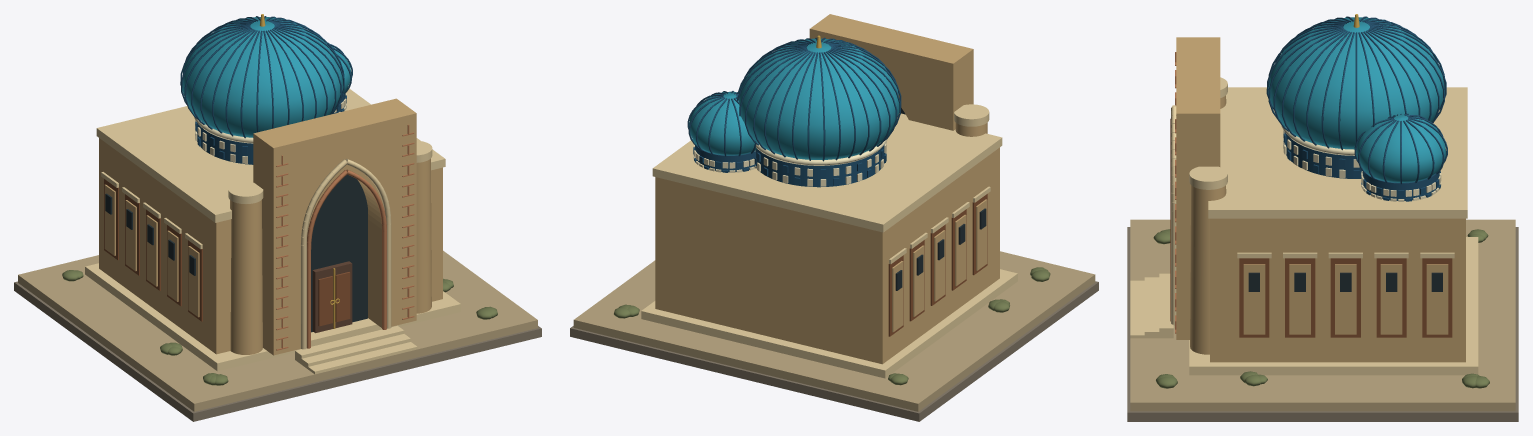
The model's file is yasawi.glb.
The picture shows the model from 3 angles, left to right: view 1: azimuth 30°, elevation 25°; view 2: azimuth 150°, elevation 25°; view 3: azimuth 270°, elevation 25°; orthographic projection. The views are drawn at different scales.
Parts seen in each view (by area): view 1: Warm limestone, Carved pale limestone, Steppe earth, Turquoise glazed ceramic, Cobalt mosaic, Doorway shadows, Foundation edging, Terracotta recess, Terracotta, Cedar doors, Sparse steppe vegetation, Ivory mosaic; view 2: Warm limestone, Carved pale limestone, Steppe earth, Turquoise glazed ceramic, Cobalt mosaic, Foundation edging, Terracotta recess, Ivory mosaic, Sparse steppe vegetation, Doorway shadows; view 3: Warm limestone, Carved pale limestone, Steppe earth, Turquoise glazed ceramic, Cobalt mosaic, Foundation edging, Terracotta recess, Ivory mosaic, Sparse steppe vegetation, Doorway shadows, Terracotta.
Part boxes in pixels (bbox=[...]): Warm limestone: bbox=[99, 98, 442, 355]; Carved pale limestone: bbox=[85, 88, 460, 374]; Steppe earth: bbox=[18, 250, 537, 411]; Turquoise glazed ceramic: bbox=[182, 17, 351, 137]; Cobalt mosaic: bbox=[180, 16, 352, 164]; Doorway shadows: bbox=[105, 174, 367, 332]; Foundation edging: bbox=[14, 281, 541, 421]; Terracotta recess: bbox=[104, 179, 350, 326]; Terracotta: bbox=[276, 124, 414, 350]; Cedar doors: bbox=[312, 261, 352, 333]; Sparse steppe vegetation: bbox=[62, 270, 497, 385]; Ivory mosaic: bbox=[194, 93, 346, 163]; Warm limestone: bbox=[655, 14, 999, 364]; Carved pale limestone: bbox=[641, 104, 1017, 378]; Steppe earth: bbox=[573, 251, 1095, 411]; Turquoise glazed ceramic: bbox=[688, 38, 899, 159]; Cobalt mosaic: bbox=[687, 37, 901, 187]; Foundation edging: bbox=[570, 281, 1098, 421]; Terracotta recess: bbox=[888, 194, 987, 336]; Ivory mosaic: bbox=[693, 139, 887, 186]; Sparse steppe vegetation: bbox=[614, 267, 1050, 385]; Doorway shadows: bbox=[895, 108, 986, 290]; Warm limestone: bbox=[1176, 37, 1465, 362]; Carved pale limestone: bbox=[1130, 77, 1478, 375]; Steppe earth: bbox=[1130, 219, 1515, 411]; Turquoise glazed ceramic: bbox=[1268, 17, 1446, 182]; Cobalt mosaic: bbox=[1266, 16, 1447, 201]; Foundation edging: bbox=[1127, 227, 1518, 421]; Terracotta recess: bbox=[1239, 258, 1452, 337]; Ivory mosaic: bbox=[1281, 126, 1441, 201]; Sparse steppe vegetation: bbox=[1153, 229, 1489, 388]; Doorway shadows: bbox=[1248, 272, 1442, 291]; Terracotta: bbox=[1170, 52, 1176, 333].
Bounding box in the file's own units: 7.3 × 5.76 × 6.5.
